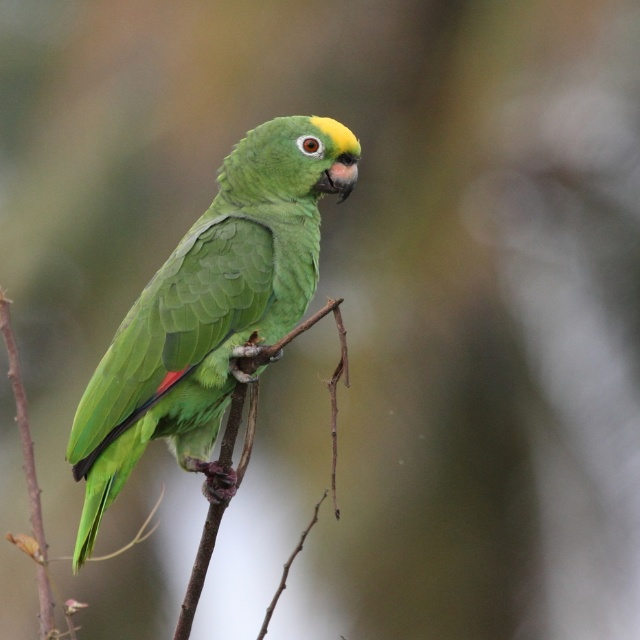Parrot: (60, 116, 362, 576)
